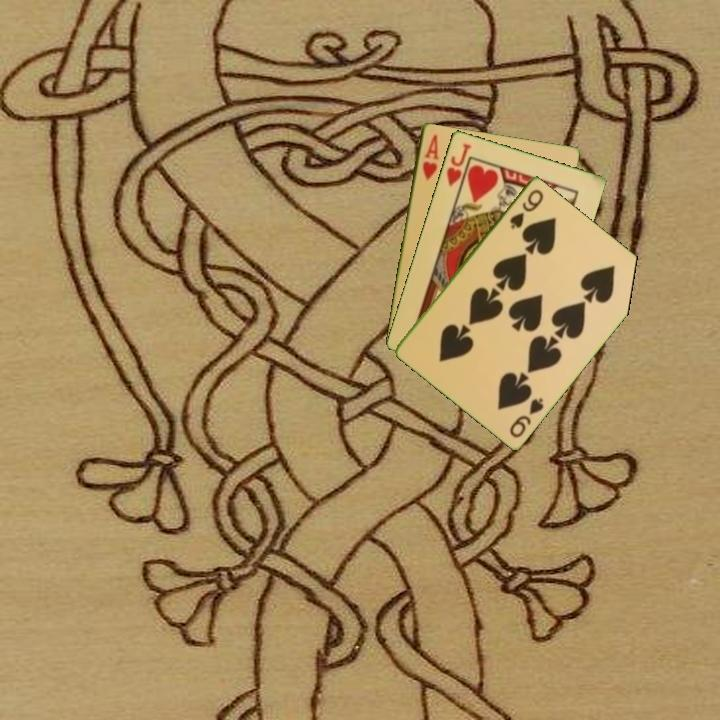9s: (506, 394, 547, 440), (506, 185, 546, 231)
Ah: (418, 130, 441, 183)
Jh: (443, 139, 474, 195)
